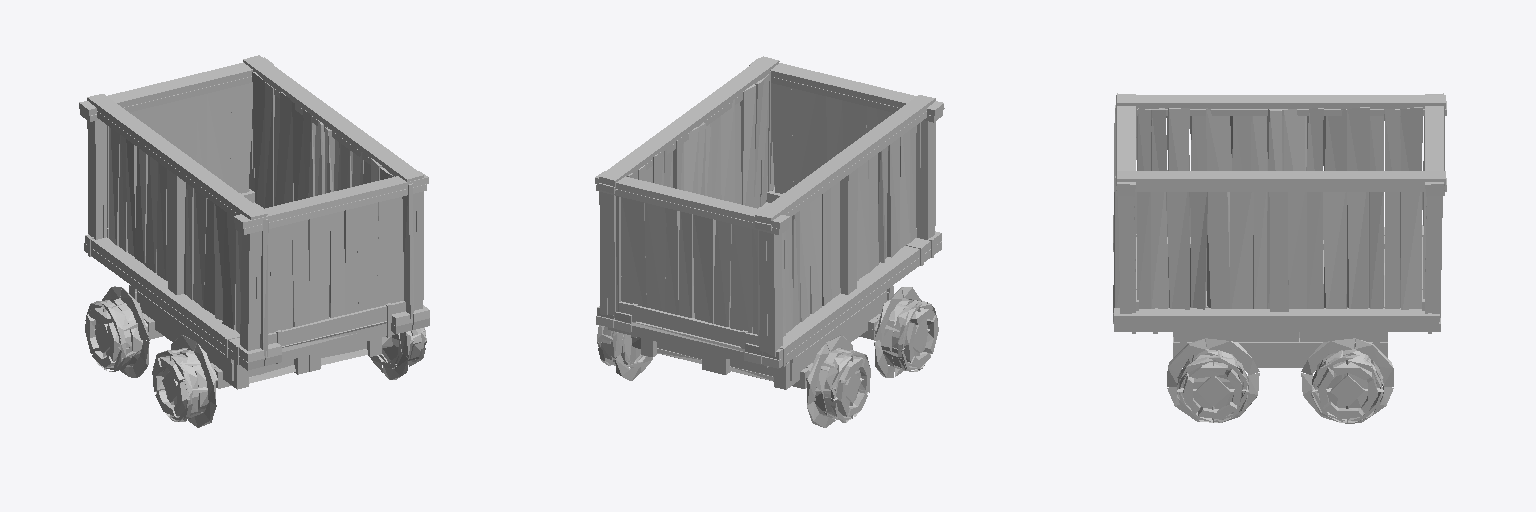
The model's file is LOD3_mine_wagon.obj.
3 renders of one model, left to right at view 1: azimuth 30°, elevation 25°; view 2: azimuth 150°, elevation 25°; view 3: azimuth 270°, elevation 25°, orthographic.
Visible parts, largest first — view 1: part13.035_Cube.055, part13.036_Cube.057, part2.011_Cylinder.010, part17.006_Cube.149, part17.009_Cube.150, part15.006_Cube.001, part12.006_Cube.152, part13.014_Cube.119, part15.001_Cube.154, part12.003_Cube.151; view 2: part13.035_Cube.055, part13.036_Cube.057, part2.011_Cylinder.010, part17.006_Cube.149, part12.006_Cube.152, part17.009_Cube.150, part15.006_Cube.001, part13.014_Cube.119, part15.001_Cube.154, part12.003_Cube.151, part13.027_Cube.054; view 3: part13.035_Cube.055, part2.011_Cylinder.010, part17.006_Cube.149, part15.006_Cube.001, part13.014_Cube.119, part12.006_Cube.152, part17.009_Cube.150, part12.003_Cube.151.
Boxes of the visible parts, x1,y1,x2,y2 form: part13.035_Cube.055: [107, 72, 413, 357]; part13.036_Cube.057: [130, 83, 403, 333]; part2.011_Cylinder.010: [85, 286, 426, 427]; part17.006_Cube.149: [87, 55, 423, 219]; part17.009_Cube.150: [79, 57, 428, 234]; part15.006_Cube.001: [84, 202, 429, 370]; part12.006_Cube.152: [87, 120, 423, 350]; part13.014_Cube.119: [129, 285, 381, 389]; part15.001_Cube.154: [107, 189, 405, 363]; part12.003_Cube.151: [167, 169, 185, 294]; part13.035_Cube.055: [614, 71, 916, 355]; part13.036_Cube.057: [621, 83, 893, 334]; part2.011_Cylinder.010: [597, 287, 938, 427]; part17.006_Cube.149: [598, 56, 935, 231]; part12.006_Cube.152: [599, 120, 935, 356]; part17.009_Cube.150: [595, 58, 944, 234]; part15.006_Cube.001: [596, 202, 941, 368]; part13.014_Cube.119: [641, 286, 893, 389]; part15.001_Cube.154: [608, 187, 916, 367]; part12.003_Cube.151: [840, 168, 857, 294]; part13.027_Cube.054: [603, 317, 744, 351]; part13.035_Cube.055: [1113, 105, 1426, 312]; part2.011_Cylinder.010: [1167, 338, 1393, 423]; part17.006_Cube.149: [1117, 95, 1446, 191]; part15.006_Cube.001: [1113, 227, 1440, 333]; part13.014_Cube.119: [1173, 263, 1387, 367]; part12.006_Cube.152: [1118, 196, 1442, 317]; part17.009_Cube.150: [1116, 93, 1444, 196]; part12.003_Cube.151: [1269, 116, 1288, 311].
Size of the model in its own units: 13.96 by 13 by 16.48.